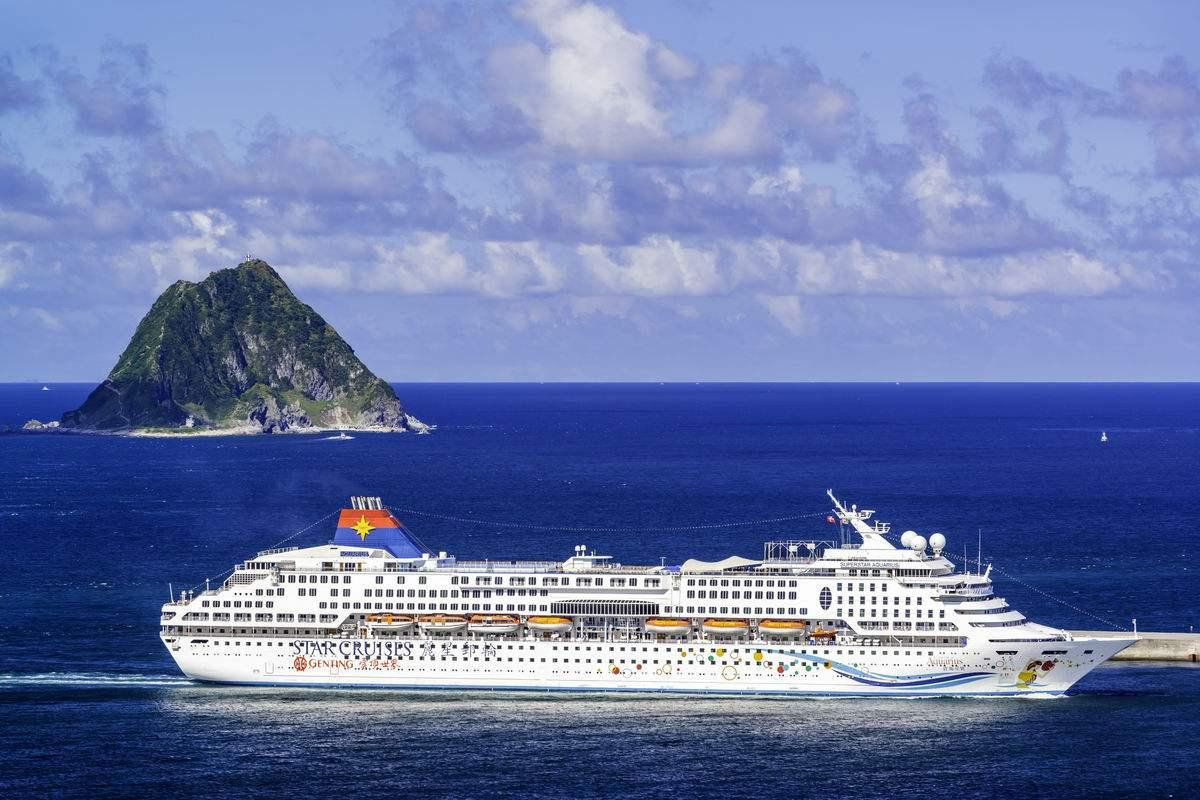youlun: (153, 490, 1158, 699)
